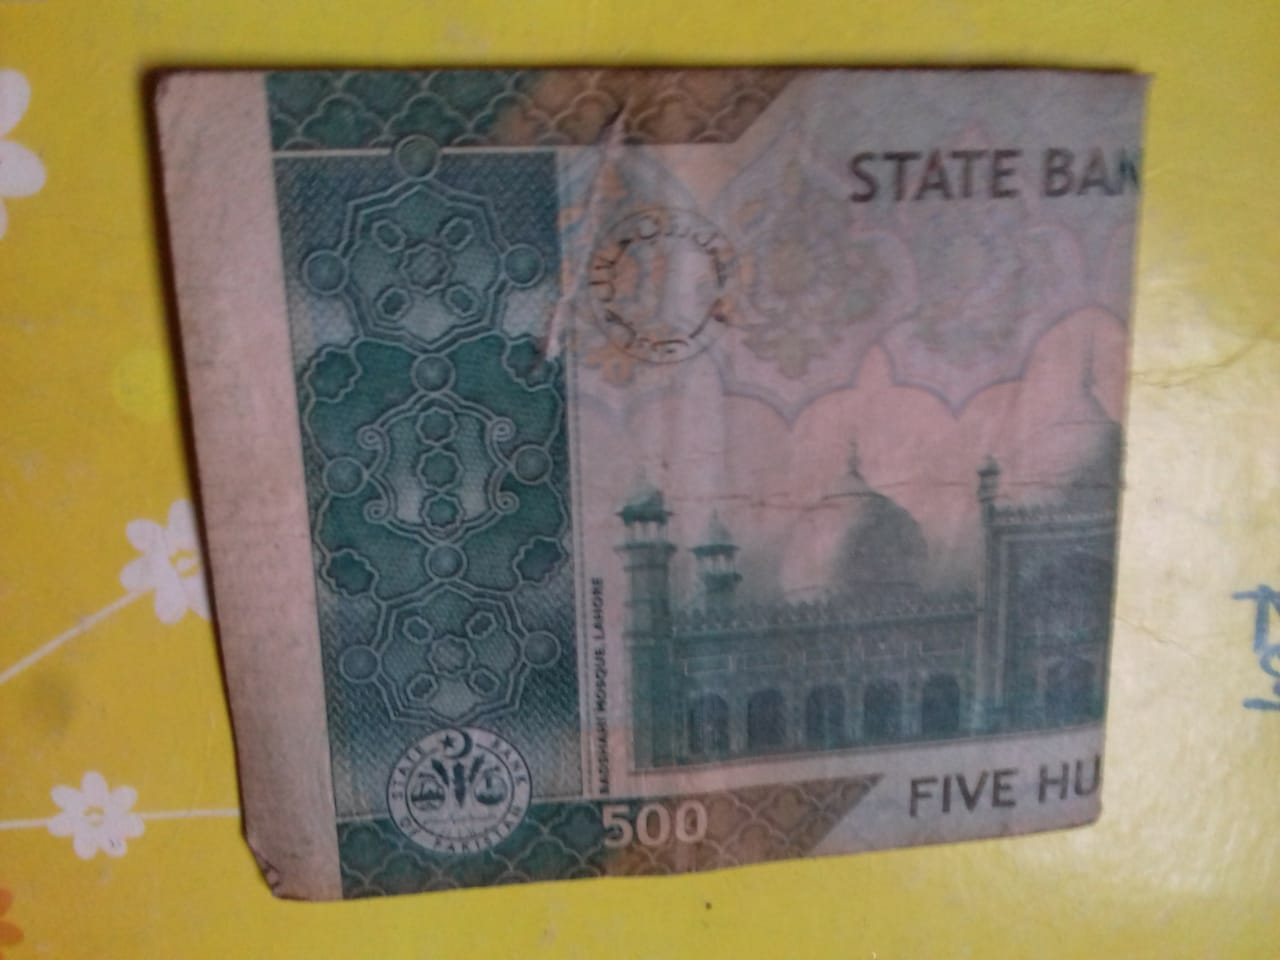500 rupee: (150, 55, 1155, 925)
